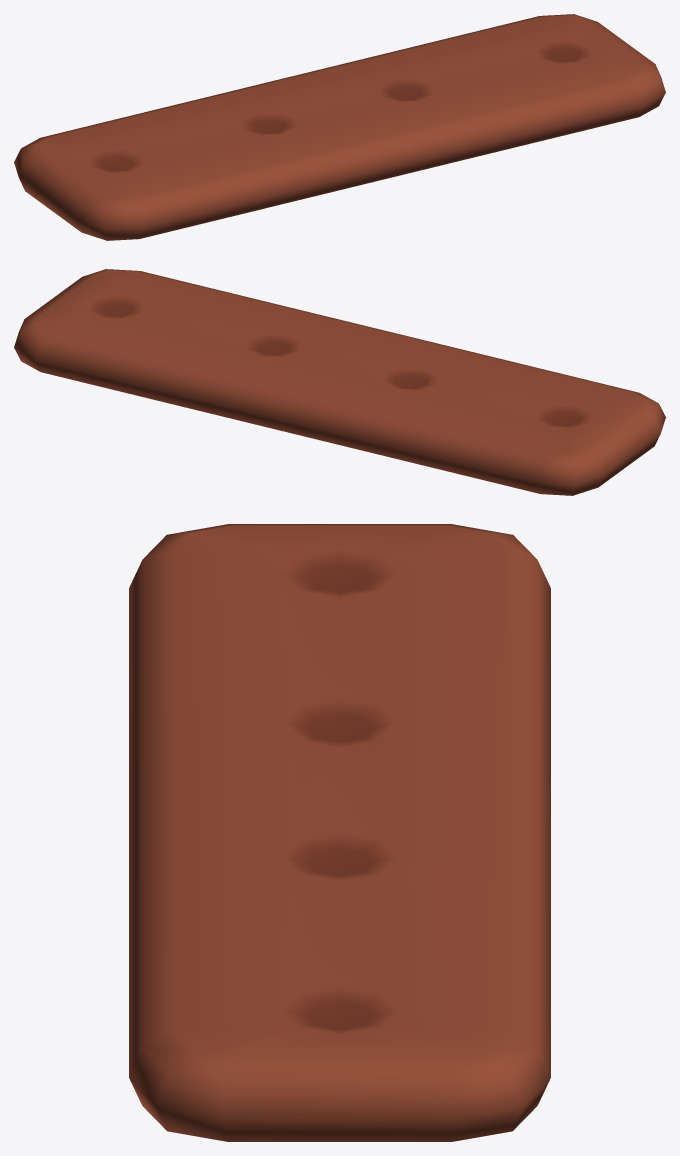
The model's file is Cookie_001.fbx.
3 views of the same model, one above another, from view 1: azimuth 30°, elevation 25°; view 2: azimuth 150°, elevation 25°; view 3: azimuth 270°, elevation 25° (orthographic). The views are drawn at different scales.
Parts seen in each view (by area): view 1: Cookie_001; view 2: Cookie_001; view 3: Cookie_001.
Boxes of the visible parts, x1,y1,x2,y2 form: Cookie_001: (14, 14, 665, 240); Cookie_001: (14, 269, 665, 495); Cookie_001: (129, 524, 550, 1141).
Bounding box in the file's own units: 1.84 × 0.1241 × 0.5755.
